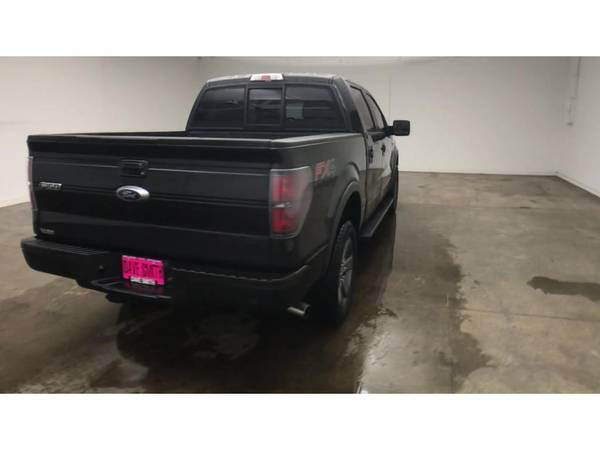Rear_Bumper: (8, 235, 296, 304)
Rear_Fender: (267, 132, 365, 303)
Rear_Right_Door: (363, 133, 387, 222)
Rear_Right_Window: (343, 82, 384, 133)
Rear_Windshield: (183, 73, 359, 132)
Right_Mirror: (390, 119, 412, 137)
Right_Taillight: (267, 168, 312, 241)
Tailgate: (27, 137, 268, 263)
Wheel: (330, 227, 362, 321)
